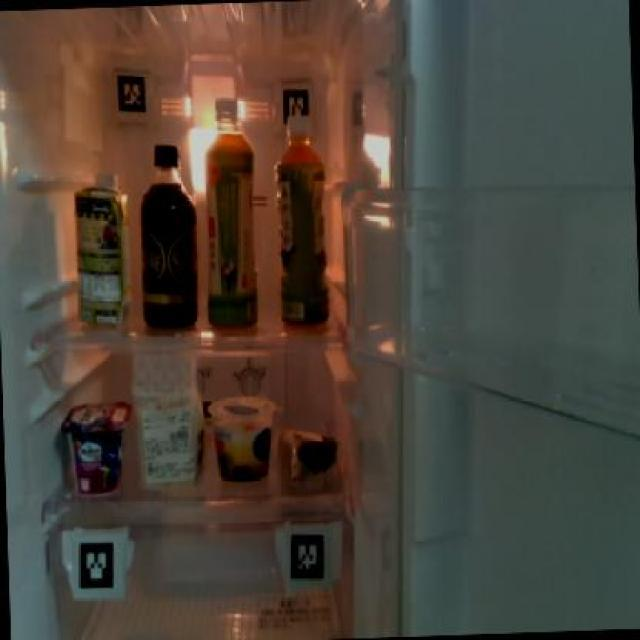coffee: (134, 142, 200, 332)
pudding: (210, 396, 276, 482)
rice_ball: (276, 428, 338, 486)
sandwich: (130, 339, 207, 484)
smoothie: (70, 168, 136, 326)
tea_a: (268, 124, 332, 333)
tea_i: (196, 93, 262, 333)
yogurt: (60, 398, 134, 497)
